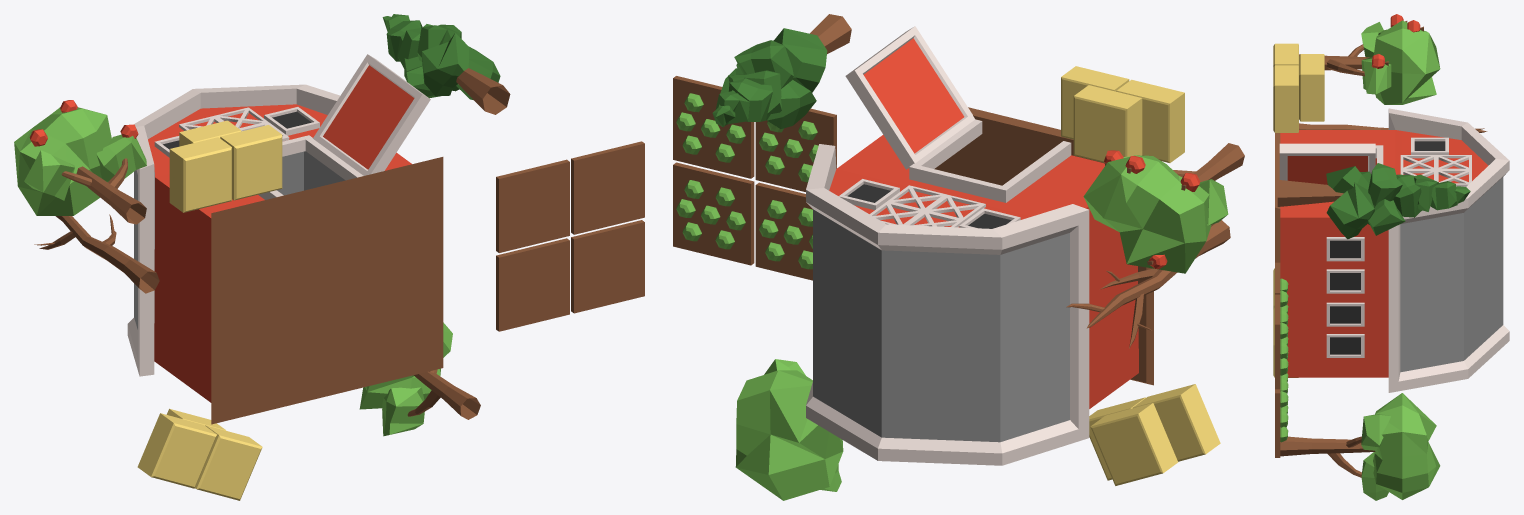
The model's file is SM_FarmBuilt.FBX.
The picture shows the model from 3 angles, left to right: view 1: azimuth 30°, elevation 25°; view 2: azimuth 150°, elevation 25°; view 3: azimuth 270°, elevation 25°; orthographic projection. The views are drawn at different scales.
Visible parts, largest first — view 1: SM_BarnScene; view 2: SM_BarnScene; view 3: SM_BarnScene.
Boxes of the visible parts, x1,y1,x2,y2 form: SM_BarnScene: [14, 14, 644, 500]; SM_BarnScene: [673, 14, 1244, 500]; SM_BarnScene: [1273, 14, 1509, 500].
Bounding box in the file's own units: 462 × 193 × 314.
1 material, 1 textured.
